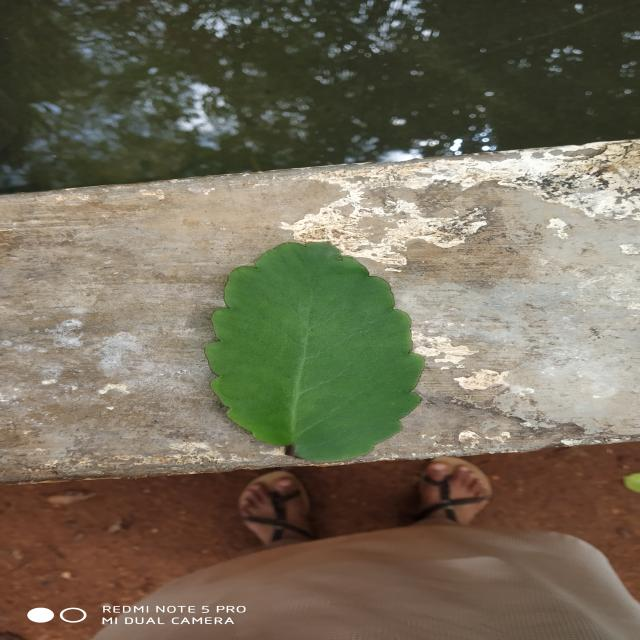spinach: (204, 242, 424, 462)
